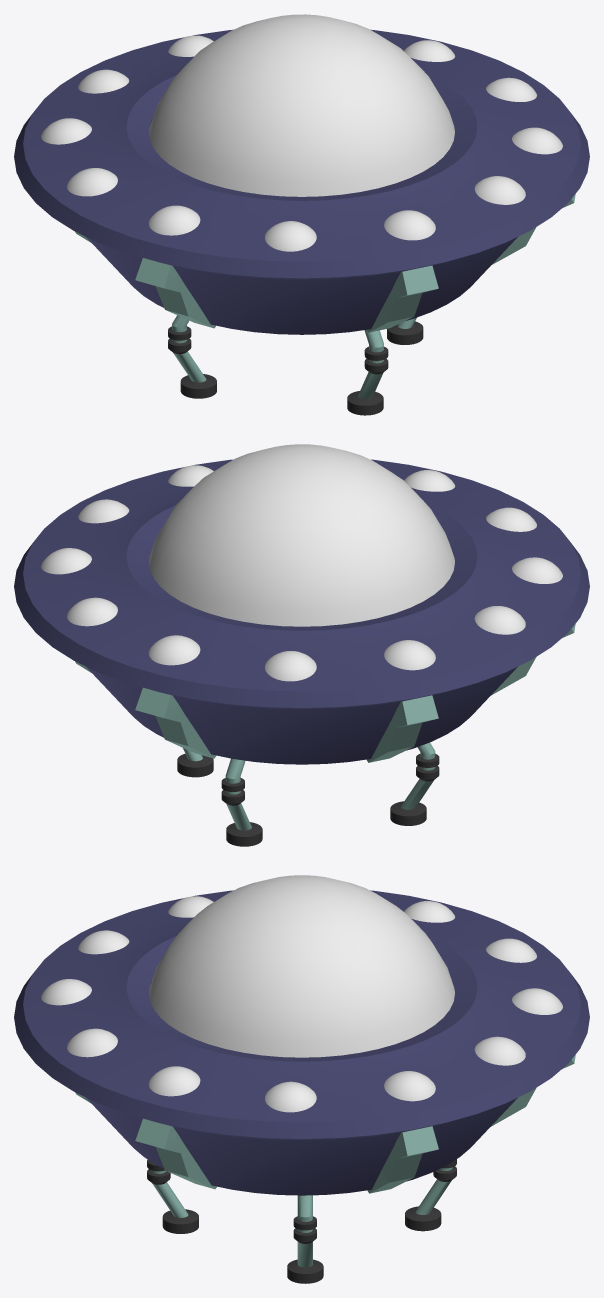
The model's file is ufo.fbx.
3 renders of one model, top to bottom at view 1: azimuth 30°, elevation 25°; view 2: azimuth 150°, elevation 25°; view 3: azimuth 270°, elevation 25°, orthographic.
Parts seen in each view (by area): view 1: ufo body, main cabin, Torus.001, ufo body pillars, legs; view 2: ufo body, main cabin, Torus.001, ufo body pillars, legs; view 3: ufo body, main cabin, Torus.001, legs, ufo body pillars.
Boxes of the visible parts, left/top/right/bottom form: ufo body: left=14, top=29, right=589, bottom=334; main cabin: left=149, top=14, right=454, bottom=196; Torus.001: left=41, top=35, right=562, bottom=251; ufo body pillars: left=75, top=194, right=575, bottom=332; legs: left=168, top=315, right=423, bottom=415; ufo body: left=14, top=459, right=589, bottom=764; main cabin: left=149, top=444, right=454, bottom=626; Torus.001: left=41, top=465, right=562, bottom=681; ufo body pillars: left=75, top=624, right=575, bottom=762; legs: left=177, top=742, right=439, bottom=846; ufo body: left=14, top=890, right=589, bottom=1195; main cabin: left=149, top=875, right=454, bottom=1057; Torus.001: left=41, top=896, right=562, bottom=1112; legs: left=147, top=1159, right=456, bottom=1283; ufo body pillars: left=75, top=1054, right=575, bottom=1193.
Bounding box in the file's own units: 44192 × 28354 × 44192.
